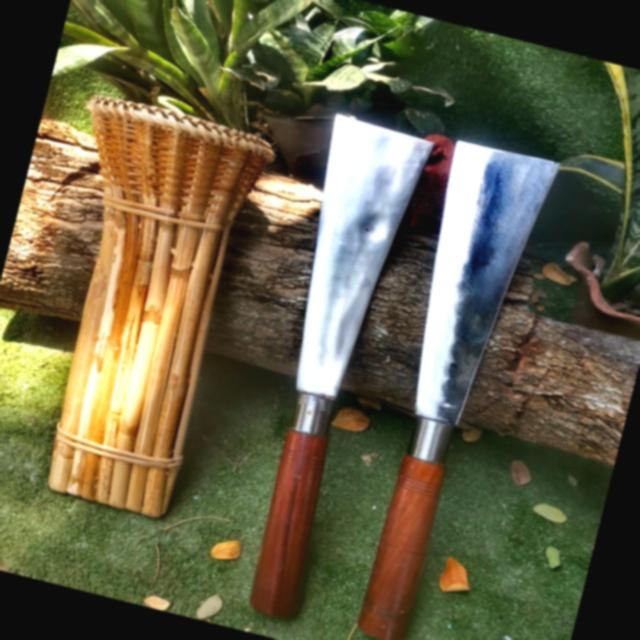eto: (355, 133, 569, 640), (243, 106, 442, 627)
